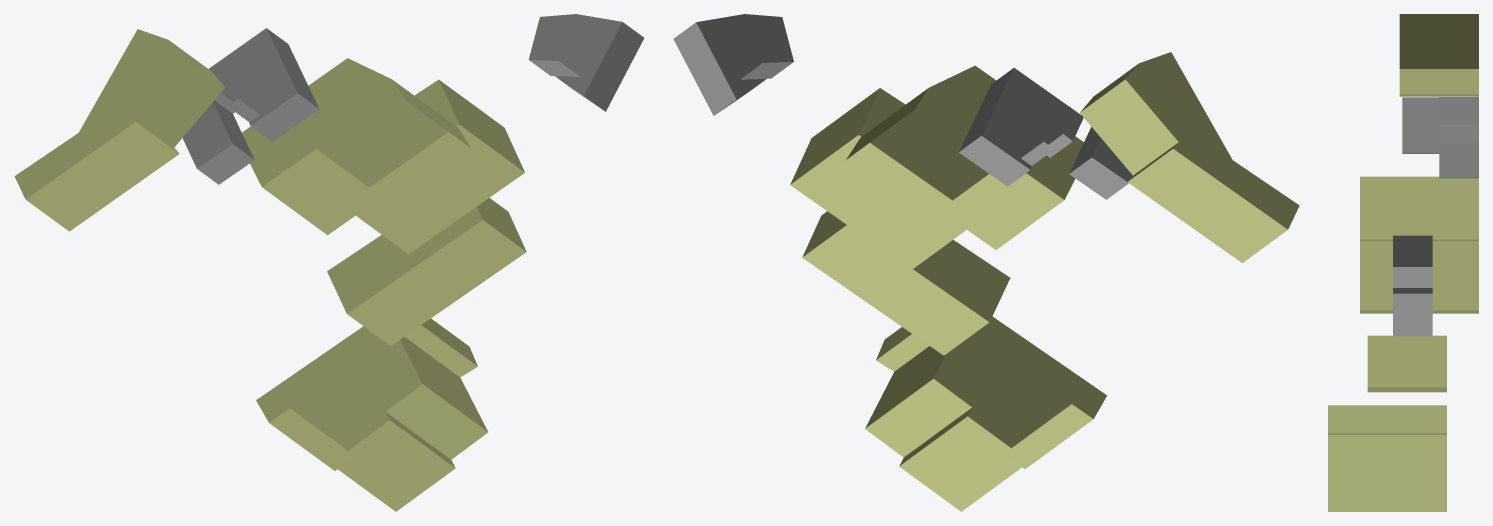
3 views of the same model, side by side, from view 1: azimuth 30°, elevation 25°; view 2: azimuth 150°, elevation 25°; view 3: azimuth 270°, elevation 25° (orthographic). The views are drawn at different scales.
Visible parts, largest first — view 1: 0_1_0_0_0_1_2_2_0; view 2: 0_1_0_0_0_1_2_2_0; view 3: 0_1_0_0_0_1_2_2_0.
Boxes of the visible parts, box(x1,y1,x2,y2) form: 0_1_0_0_0_1_2_2_0: box(14, 14, 644, 511); 0_1_0_0_0_1_2_2_0: box(673, 14, 1299, 511); 0_1_0_0_0_1_2_2_0: box(1328, 14, 1478, 511).
Bounding box in the file's own units: 46.02 × 35.08 × 11.4.
